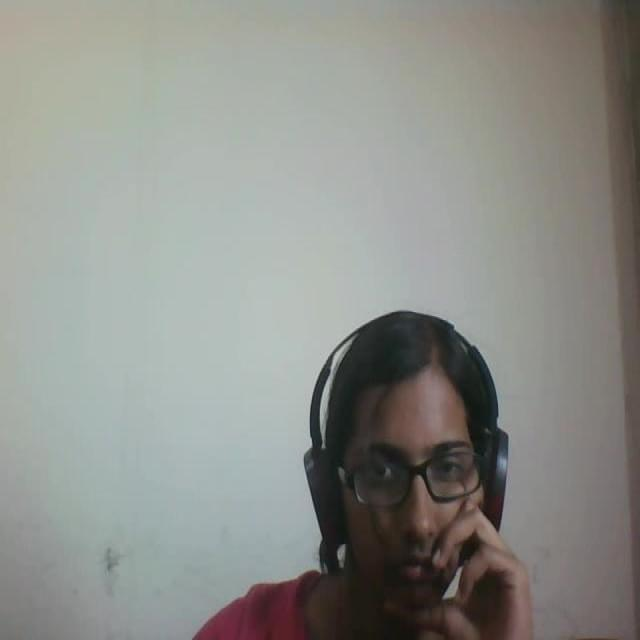Bored: (282, 300, 533, 640)
